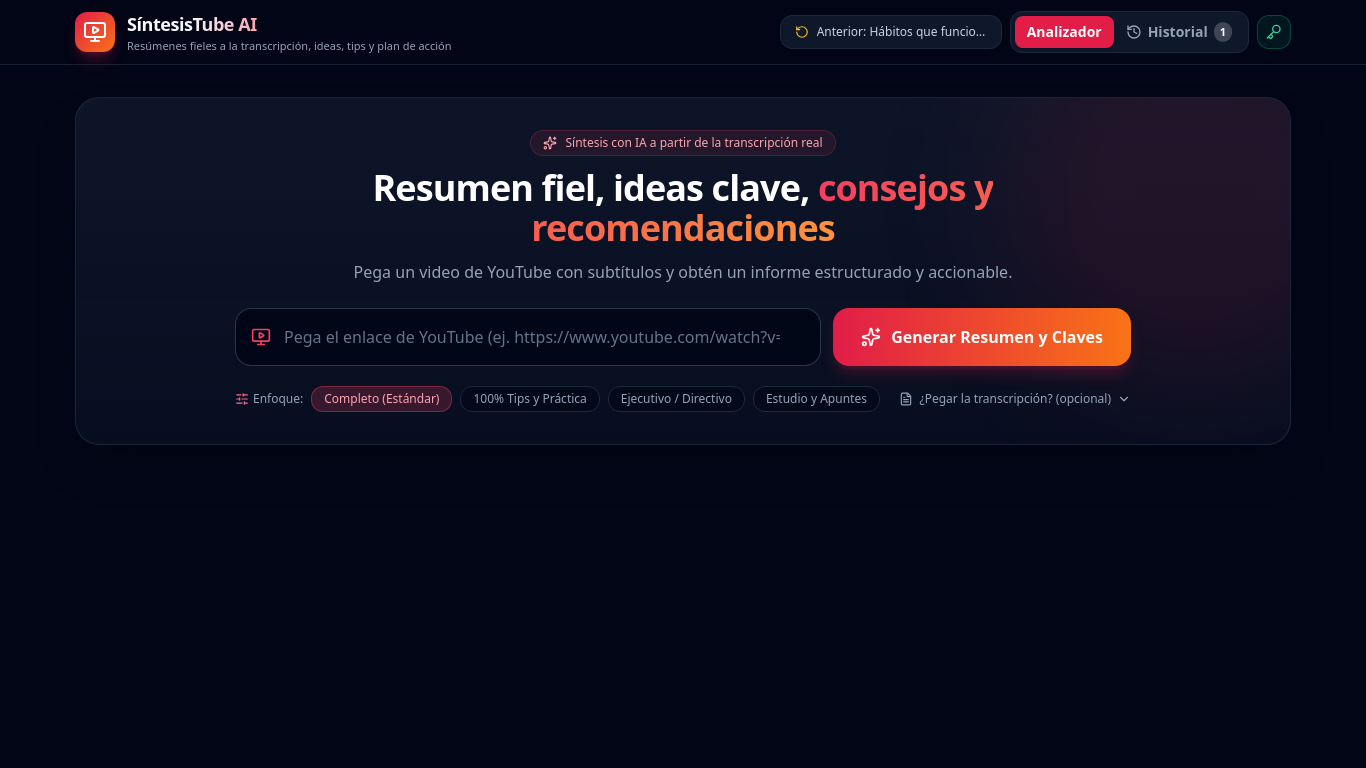
Test: SEC · almacenamiento local › entradas manipuladas (ID inválido, URLs peligrosas) se descartan o sanean
Click the button "Historial 1": click(1179, 32) [1114,16,1244,48]
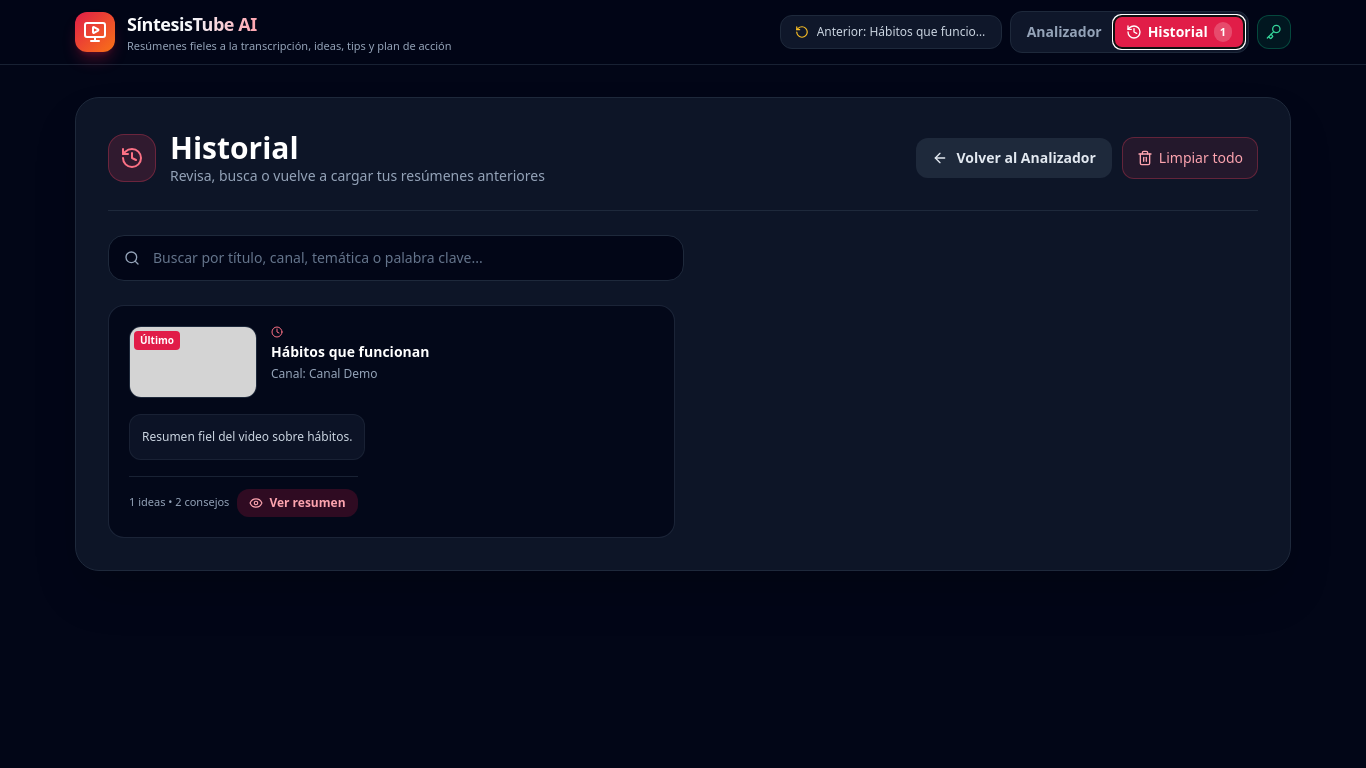
Result: the number of list items is 1 at [108,305,675,538]
